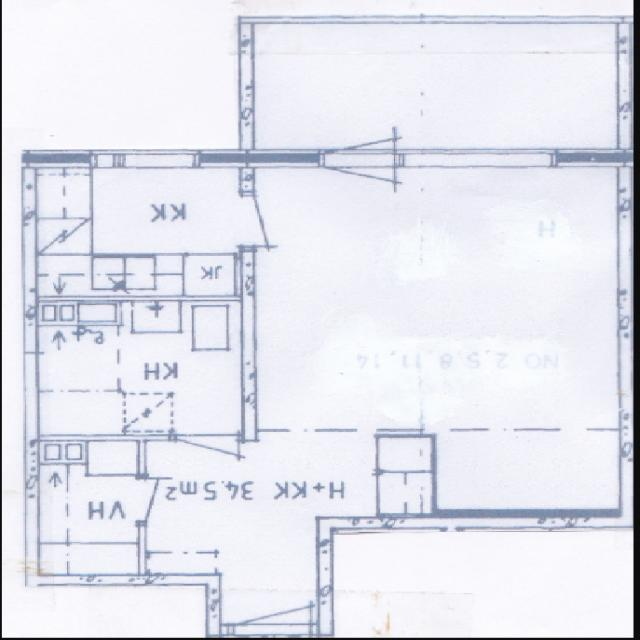door: (225, 558, 308, 638), (322, 92, 394, 168), (322, 150, 394, 225), (174, 435, 238, 491), (140, 479, 199, 522)
